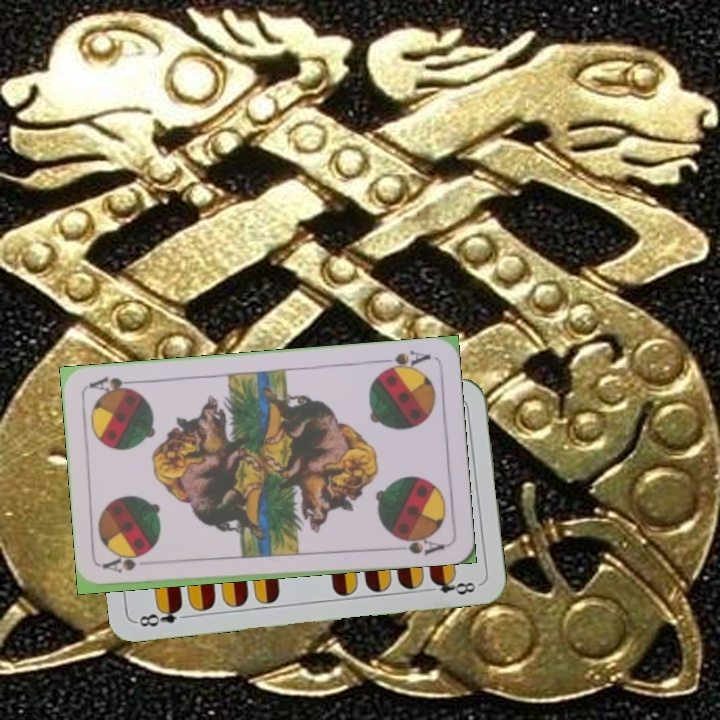E8: (133, 601, 185, 630)
SA: (374, 345, 434, 375), (100, 555, 139, 576)
